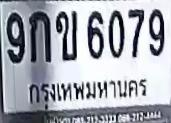0: (108, 9, 124, 58)
6: (87, 10, 104, 58)
7: (128, 9, 144, 58)
9: (6, 12, 24, 62), (148, 8, 164, 56)
A01: (28, 11, 50, 62)
A02: (55, 10, 77, 60)
BKK: (26, 77, 155, 110)
